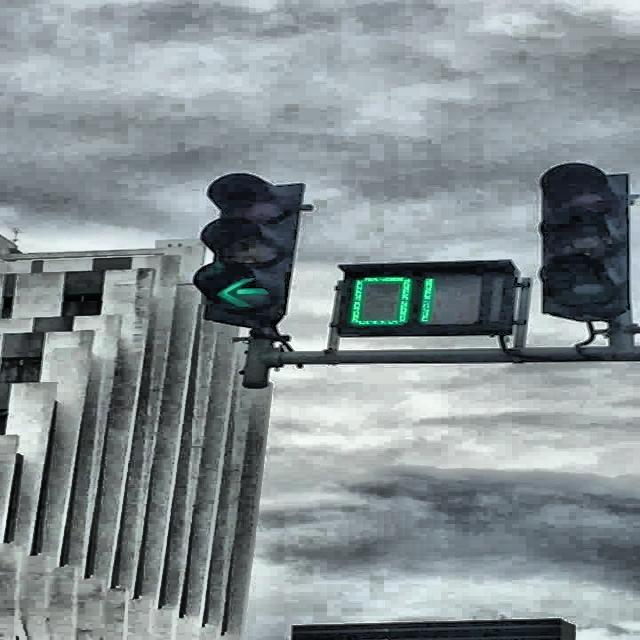green: (195, 173, 305, 323)
